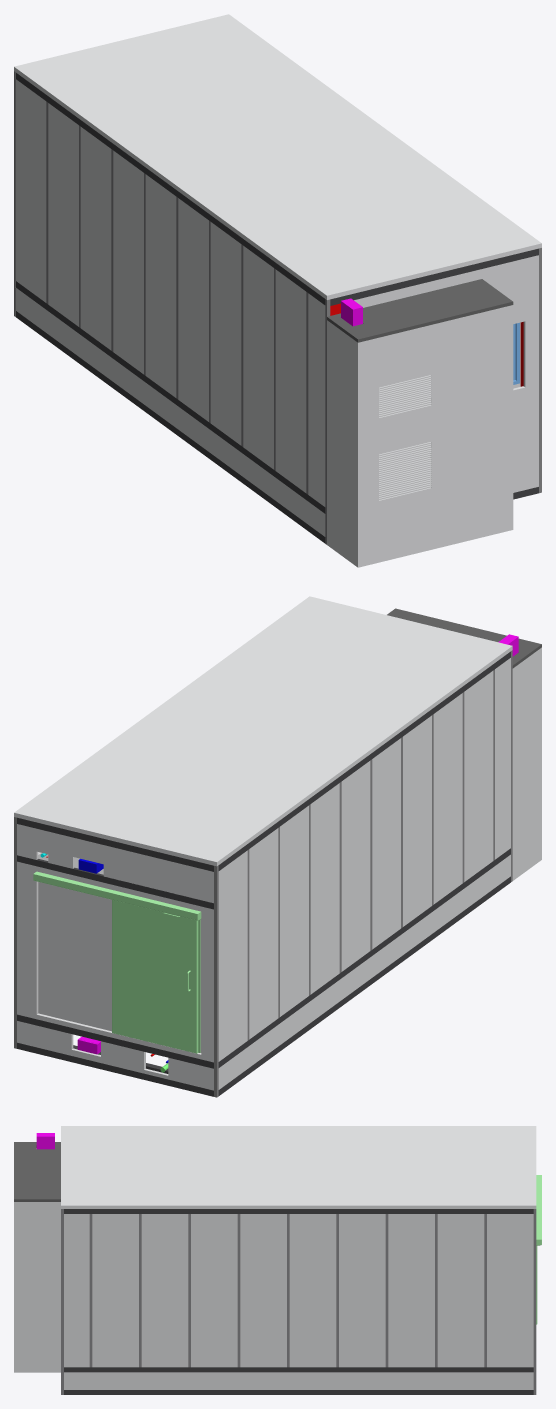
The model's file is 음압병실 모듈.glb.
The picture shows the model from 3 angles, top to bottom: view 1: azimuth 30°, elevation 25°; view 2: azimuth 150°, elevation 25°; view 3: azimuth 270°, elevation 25°; orthographic projection. The views are drawn at different scales.
Size of the model in its own units: 0.17 by 0.1884 by 0.4762.
